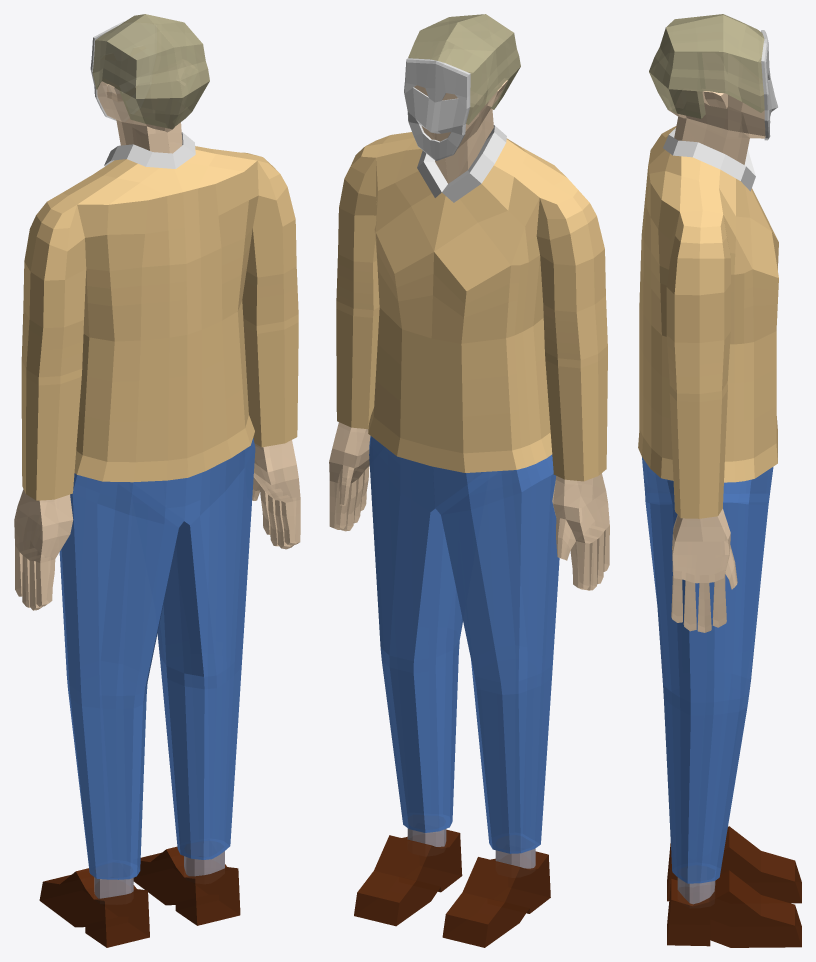
The model's file is Christiaan.fbx.
The picture shows the model from 3 angles, left to right: view 1: azimuth 30°, elevation 25°; view 2: azimuth 150°, elevation 25°; view 3: azimuth 270°, elevation 25°; orthographic projection. The views are drawn at different scales.
Visible parts, largest first — view 1: Christiaan_F; view 2: Christiaan_F; view 3: Christiaan_F.
Part boxes in pixels (x1,y1,x2,y2): Christiaan_F: (14,14,300,947); Christiaan_F: (329,14,609,947); Christiaan_F: (638,14,801,947).
Bounding box in the file's own units: 134 × 437 × 72.06.
